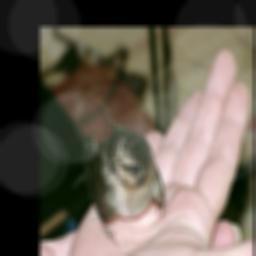Swallow: (69, 117, 166, 250)
